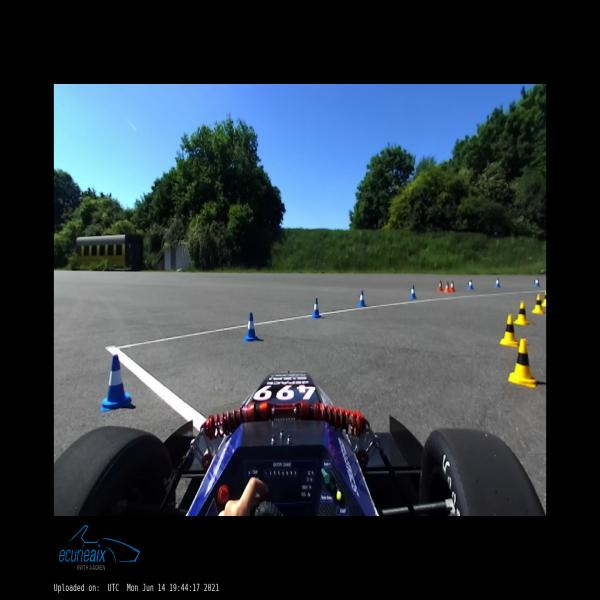blue_cone: (101, 355, 130, 412), (244, 312, 258, 340), (312, 298, 321, 318), (358, 290, 366, 306), (410, 286, 418, 299), (468, 278, 474, 290), (494, 278, 501, 288), (534, 278, 540, 286)
orange_cone: (437, 280, 443, 291), (450, 280, 455, 292), (445, 280, 449, 292)
yellow_cone: (508, 338, 536, 388), (500, 314, 519, 348), (514, 300, 530, 326), (532, 294, 544, 314), (542, 291, 546, 307)
